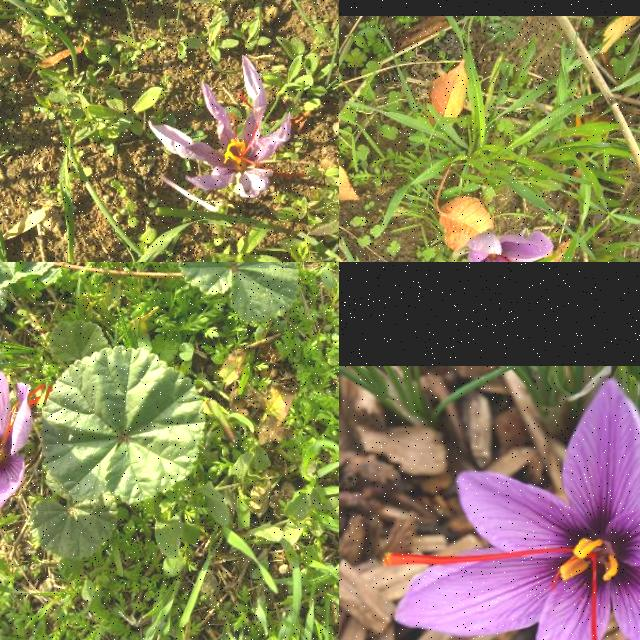flower: (379, 380, 640, 640), (148, 56, 292, 198), (0, 367, 51, 538), (464, 230, 554, 262)
